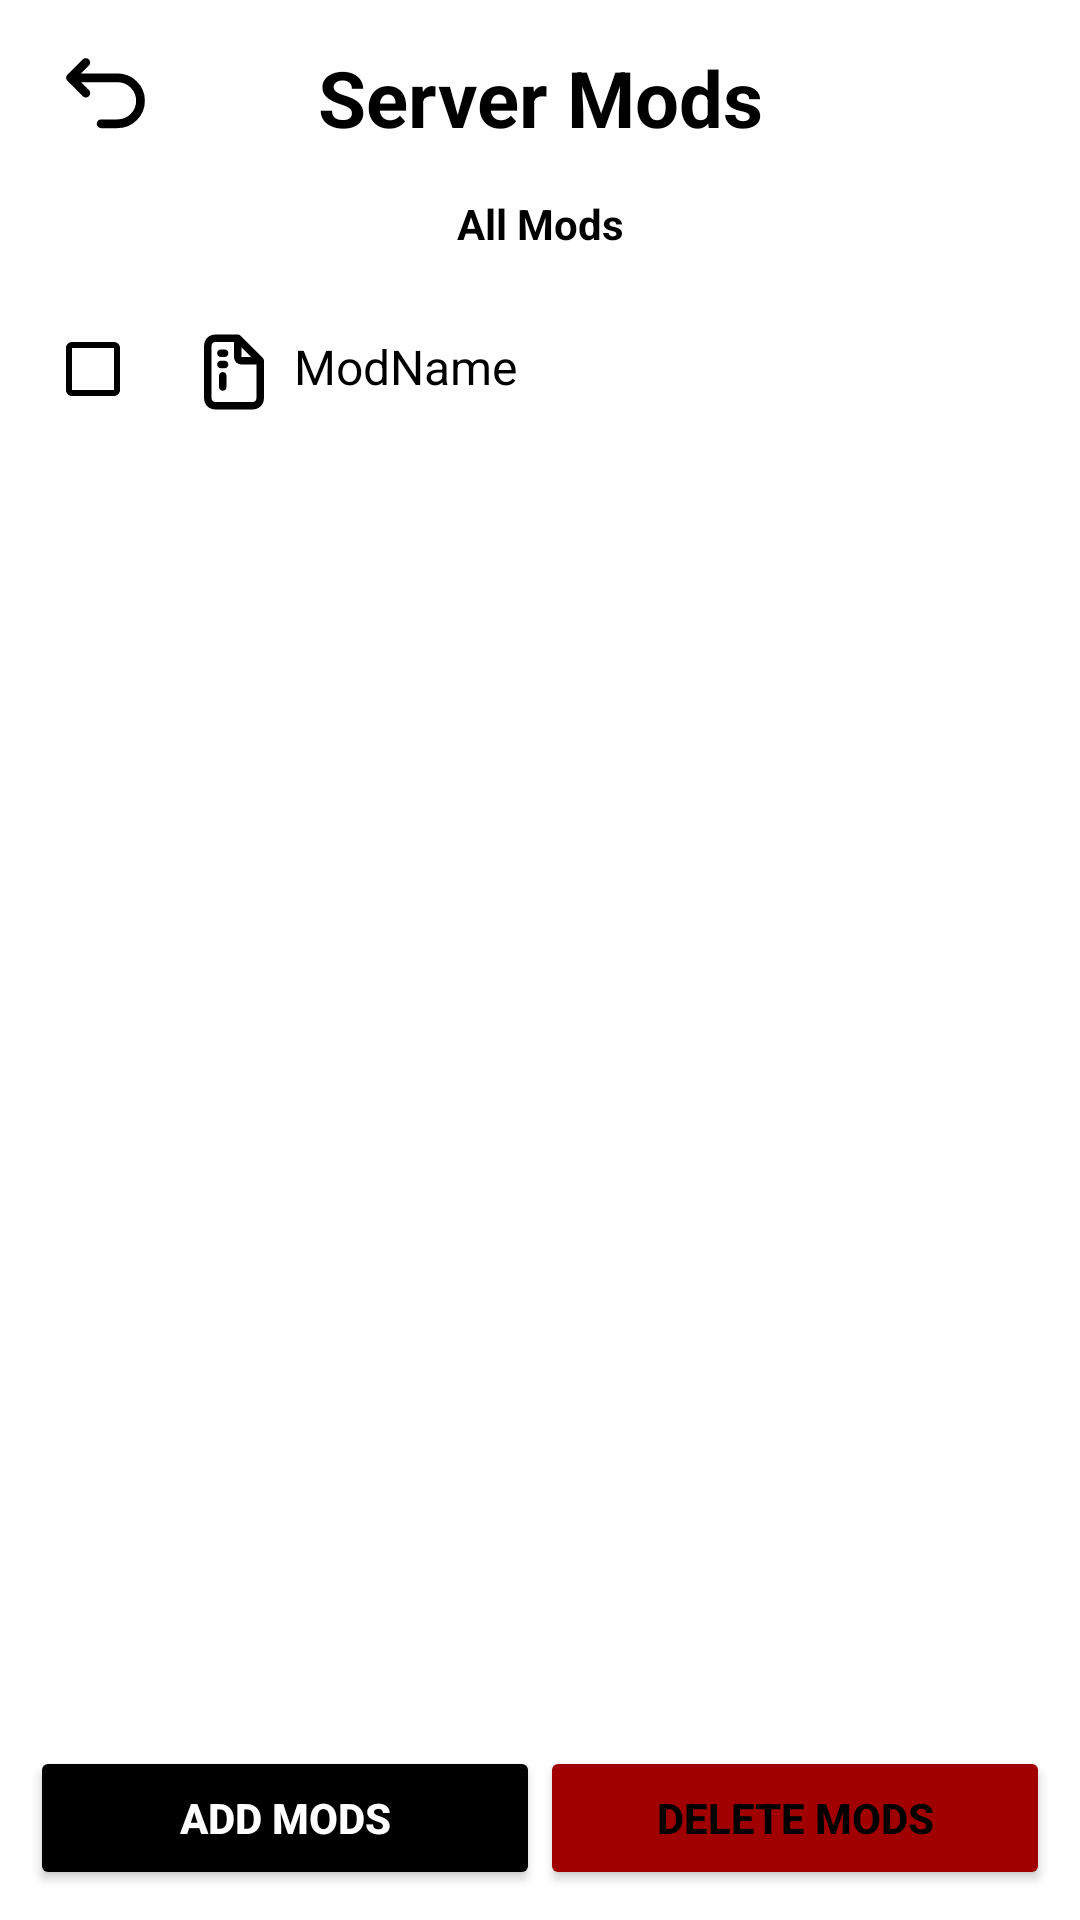

Icons on this 1080 × 1920 Android screen, each with the point to tap as (x=x, y=y):
back: (x=105, y=93)
file: (x=234, y=372)
